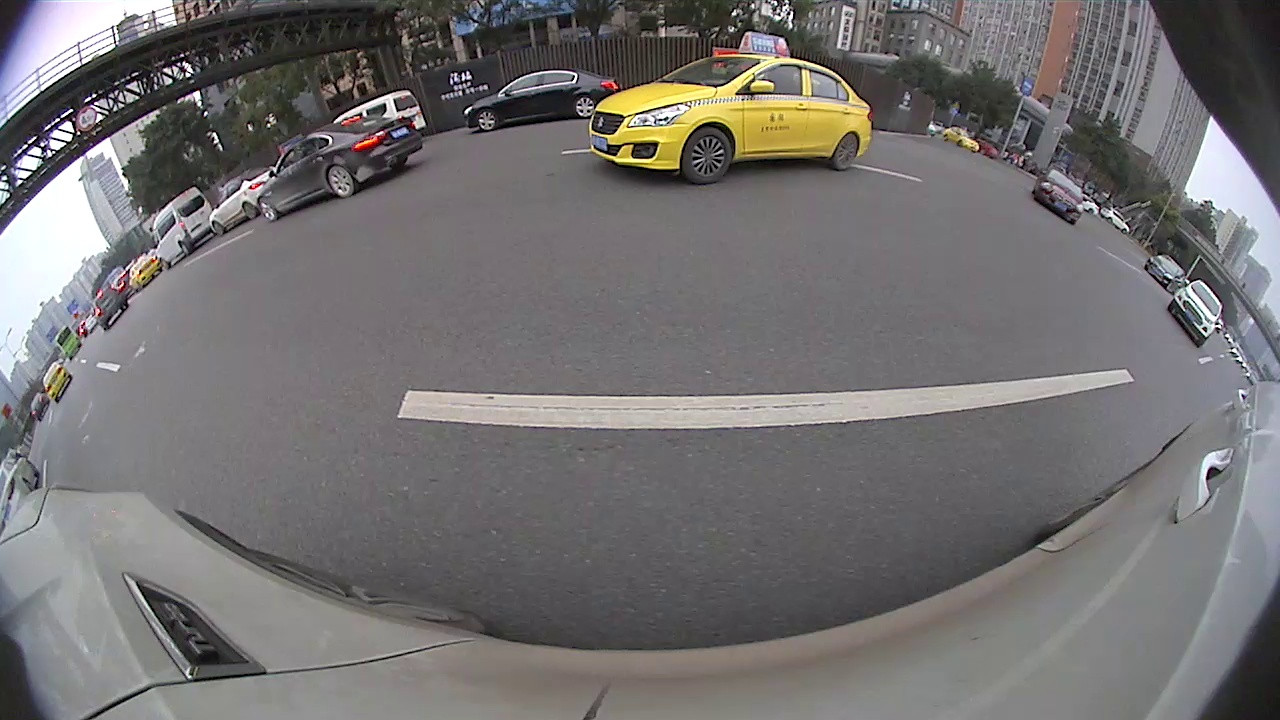car: (588, 32, 874, 186), (257, 113, 424, 223), (464, 68, 619, 132), (152, 185, 213, 271), (208, 169, 278, 236), (333, 89, 427, 133), (1166, 280, 1224, 348), (1033, 169, 1085, 225), (1144, 254, 1189, 292), (91, 288, 129, 332), (41, 361, 73, 403)
front: (683, 128, 733, 183), (478, 110, 495, 129), (259, 202, 276, 219), (213, 222, 224, 236)
rear: (325, 169, 355, 198), (836, 137, 859, 170), (577, 96, 594, 119), (244, 203, 256, 217)
